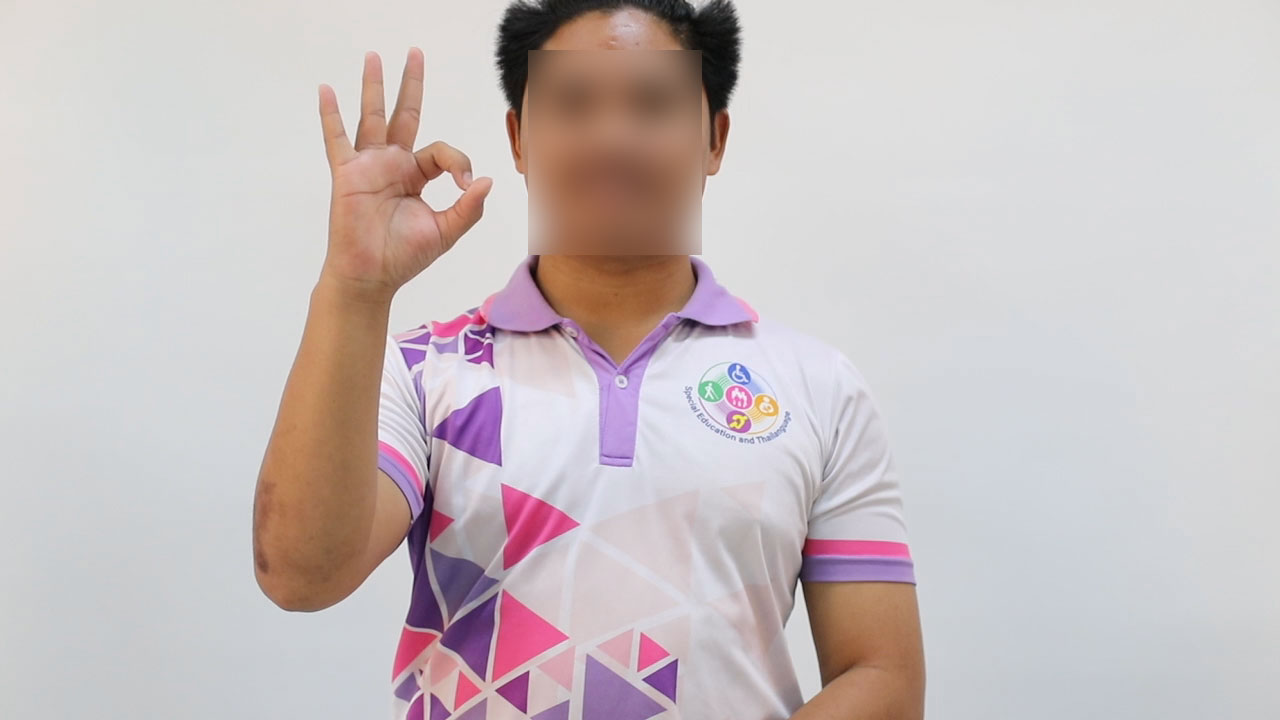for: (293, 34, 499, 316)
